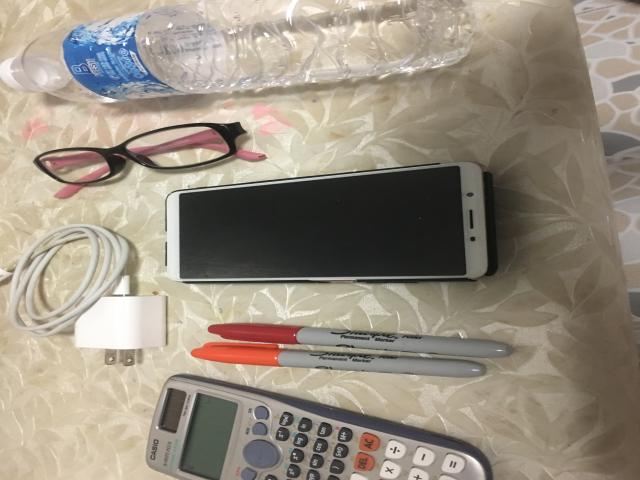Glasses: (33, 122, 265, 198)
Mobile phone: (167, 162, 497, 282)
Pen: (208, 323, 512, 357), (192, 343, 487, 378)
bottle: (0, 0, 473, 102)
wire: (0, 224, 167, 366)
